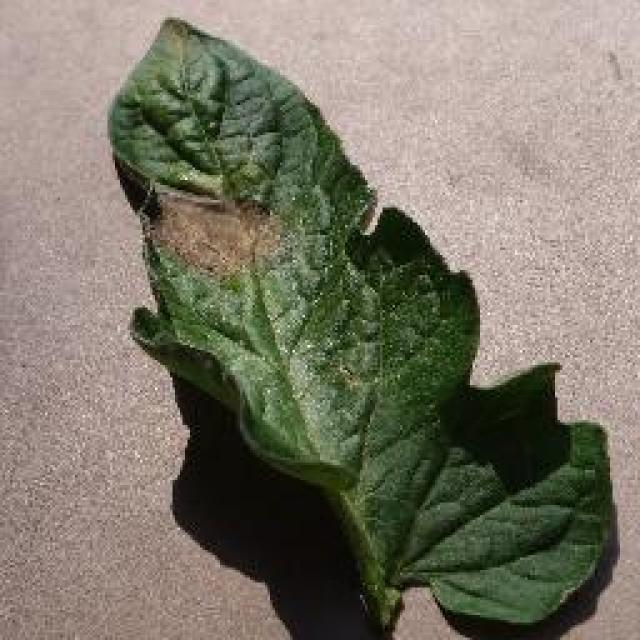Tomato Late Blight: (110, 162, 428, 350)
